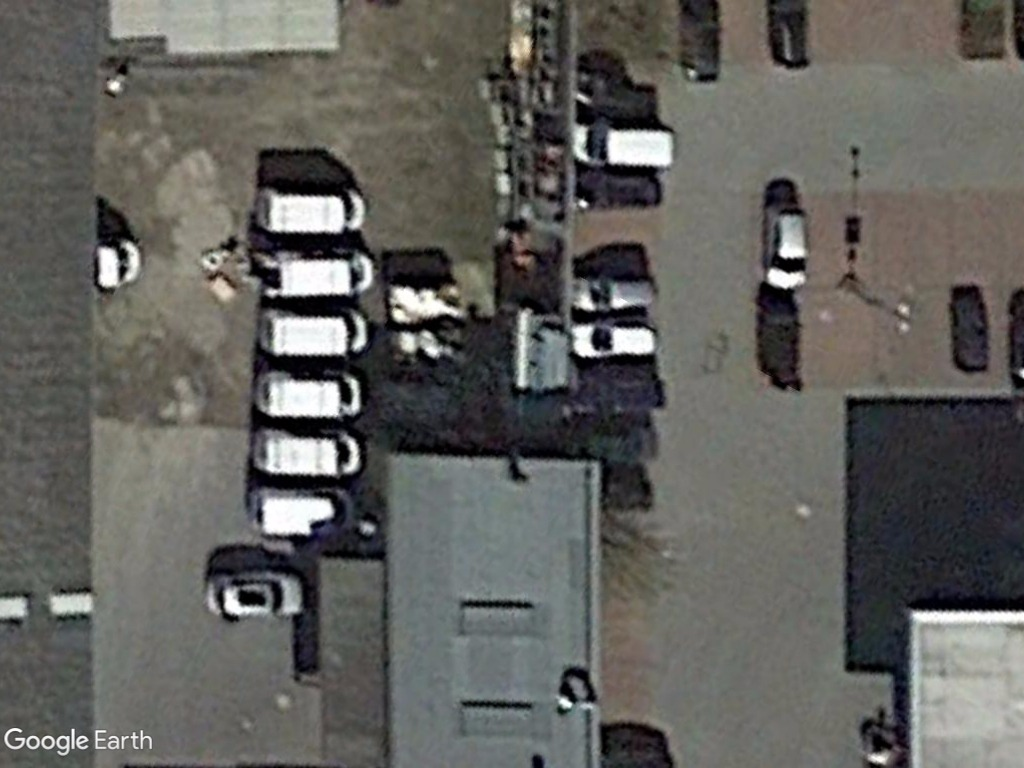car: (200, 564, 309, 622), (570, 271, 663, 317)
van: (248, 178, 370, 239), (254, 246, 379, 302), (246, 487, 363, 543), (253, 305, 372, 360), (248, 426, 366, 481), (569, 118, 680, 172), (251, 367, 364, 419)
